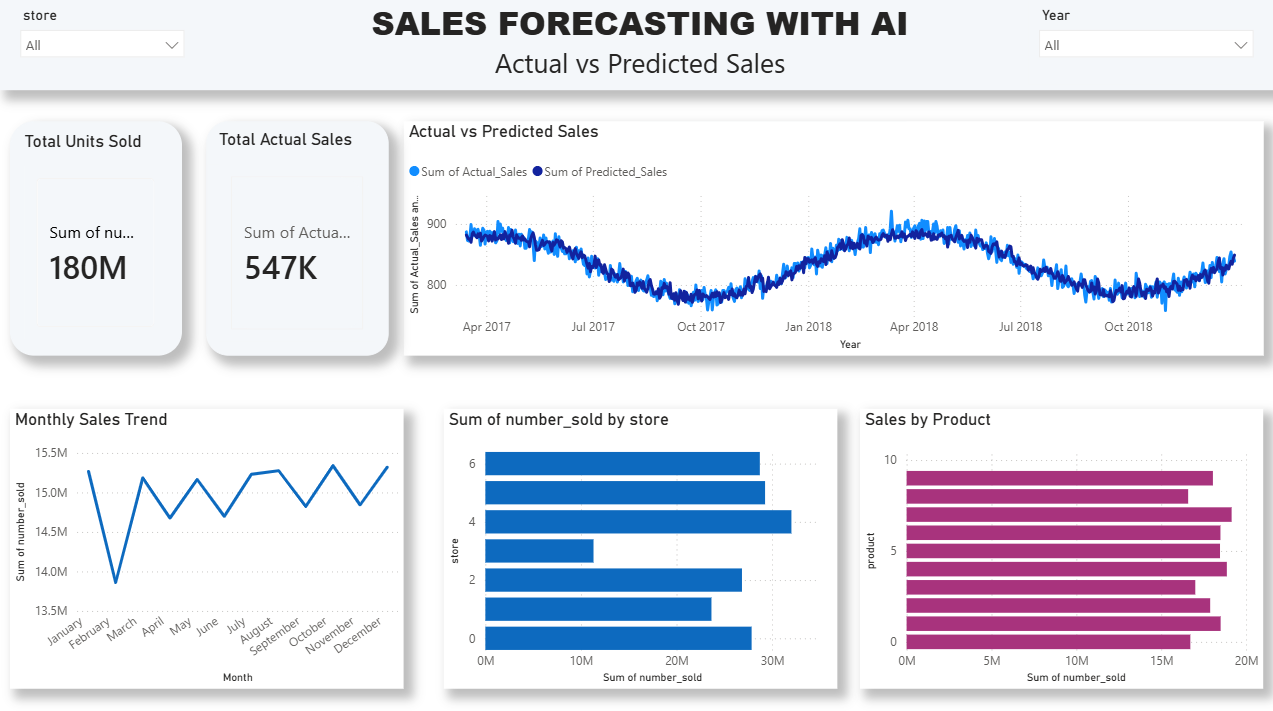

This screenshot's page, from the dashboard's own definition file:
{"tool":"powerbi","page":{"name":"Page 1","canvas":[1280,720],"ordinal":0},"visuals":[{"type":"cardVisual","title":"Total Units Sold","fields":{"Data":["Sum(sales_powerbi.number_sold)"]},"box":[10,126,172,234],"z":0},{"type":"clusteredBarChart","title":"Sales by Product","fields":{"Category":["sales_powerbi.product"],"Y":["Sum(sales_powerbi.number_sold)"]},"box":[860,413.3,403.3,280],"z":1000},{"type":"lineChart","title":"Monthly Sales Trend","fields":{"Category":["sales_powerbi.Date.Variation.Date Hierarchy.Month"],"Y":["Sum(sales_powerbi.number_sold)"]},"box":[10,413.3,393.3,280],"z":2000},{"type":"slicer","fields":{"Values":["sales_powerbi.store"]},"box":[640,126,266,86],"z":3000},{"type":"clusteredBarChart","fields":{"Category":["sales_powerbi.store"],"Y":["Sum(sales_powerbi.number_sold)"]},"box":[443.3,413.3,393.3,280],"z":4000},{"type":"lineChart","title":"Actual vs Predicted Sales","fields":{"Y":["Sum(sales_predictions.Actual_Sales)","Sum(sales_predictions.Predicted_Sales)"],"Category":["sales_predictions.Date.Variation.Date Hierarchy.Year","sales_predictions.Date.Variation.Date Hierarchy.Quarter","sales_predictions.Date.Variation.Date Hierarchy.Month","sales_predictions.Date.Variation.Date Hierarchy.Day"]},"box":[404,126,860,234],"z":5000},{"type":"textbox","box":[0,0,1280,95],"z":6000},{"type":"cardVisual","title":"Total Actual Sales","fields":{"Data":["Sum(sales_predictions.Actual_Sales)"]},"box":[206,126,182,234],"z":7000},{"type":"slicer","fields":{"Values":["sales_powerbi.Year"]},"box":[1028.3,6.7,235,83.3],"z":8000},{"type":"slicer","fields":{"Values":["sales_powerbi.store"]},"box":[9.8,6.1,184.6,74.6],"z":9000}]}

Visuals, with their boxes in screenshot pixels (x1, y1, x2, y2), scaled from the page's 1280x720 canvas onto the 1273x711 screenshot:
"Total Units Sold" cardVisual: x1=10 y1=124 x2=181 y2=356
"Sales by Product" clusteredBarChart: x1=855 y1=408 x2=1256 y2=685
"Monthly Sales Trend" lineChart: x1=10 y1=408 x2=401 y2=685
slicer - sales_powerbi.store: x1=636 y1=124 x2=901 y2=209
clusteredBarChart - sales_powerbi.store x Sum(sales_powerbi.number_sold): x1=441 y1=408 x2=832 y2=685
"Actual vs Predicted Sales" lineChart: x1=402 y1=124 x2=1257 y2=356
textbox: x1=0 y1=0 x2=1272 y2=94
"Total Actual Sales" cardVisual: x1=205 y1=124 x2=386 y2=356
slicer - sales_powerbi.Year: x1=1023 y1=7 x2=1256 y2=89
slicer - sales_powerbi.store: x1=10 y1=6 x2=193 y2=80
